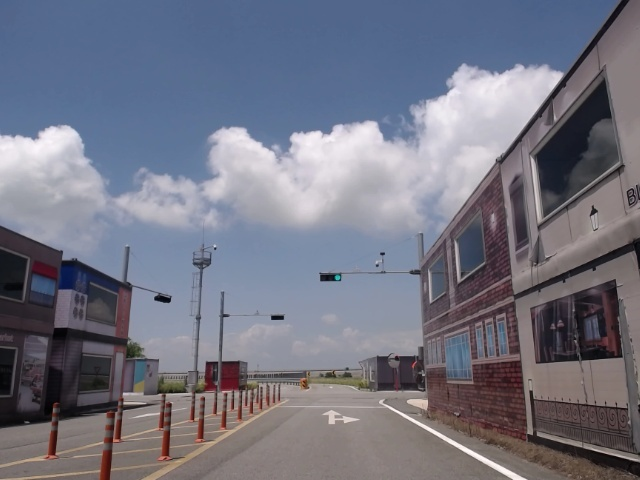green_3: (321, 275, 342, 281)
